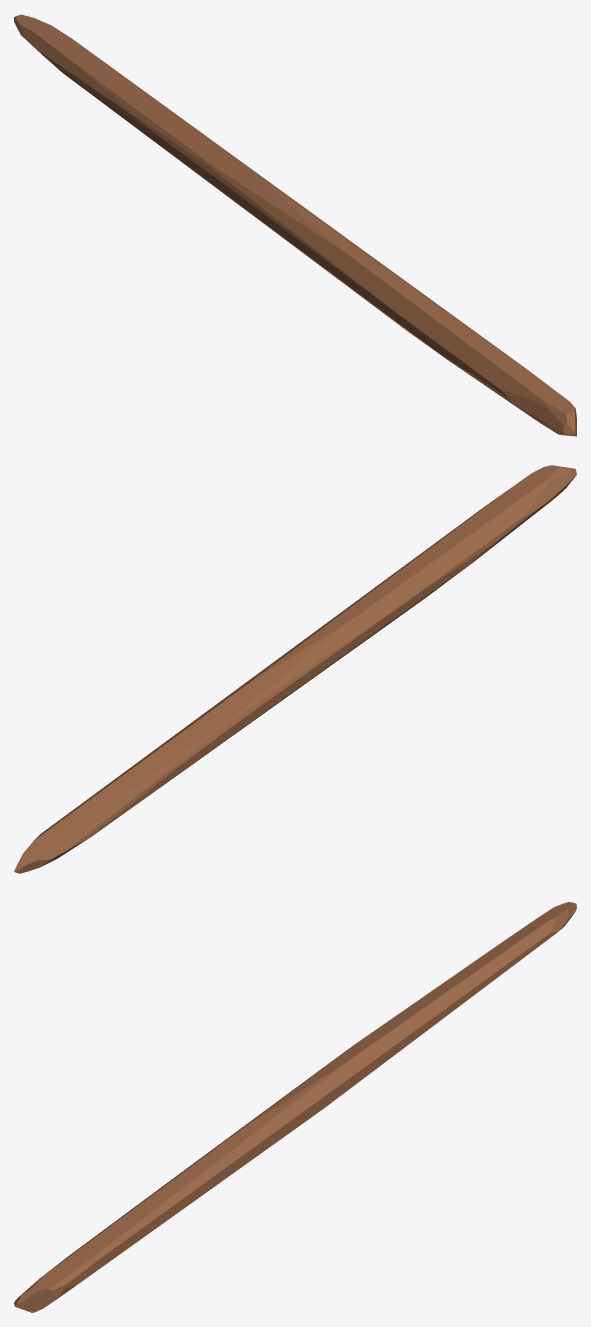
Rendered from wood_projectile.fbx.
3 renders of one model, top to bottom at view 1: azimuth 30°, elevation 25°; view 2: azimuth 150°, elevation 25°; view 3: azimuth 330°, elevation 25°, orthographic. The views are drawn at different scales.
Visible parts, largest first — view 1: Projectile; view 2: Projectile; view 3: Projectile.
Boxes of the visible parts, x1=… form: Projectile: x1=14, y1=14, x2=576, y2=436; Projectile: x1=14, y1=465, x2=576, y2=873; Projectile: x1=14, y1=902, x2=576, y2=1312.
Bounding box in the file's own units: 0.0392 × 0.0313 × 1.07.
